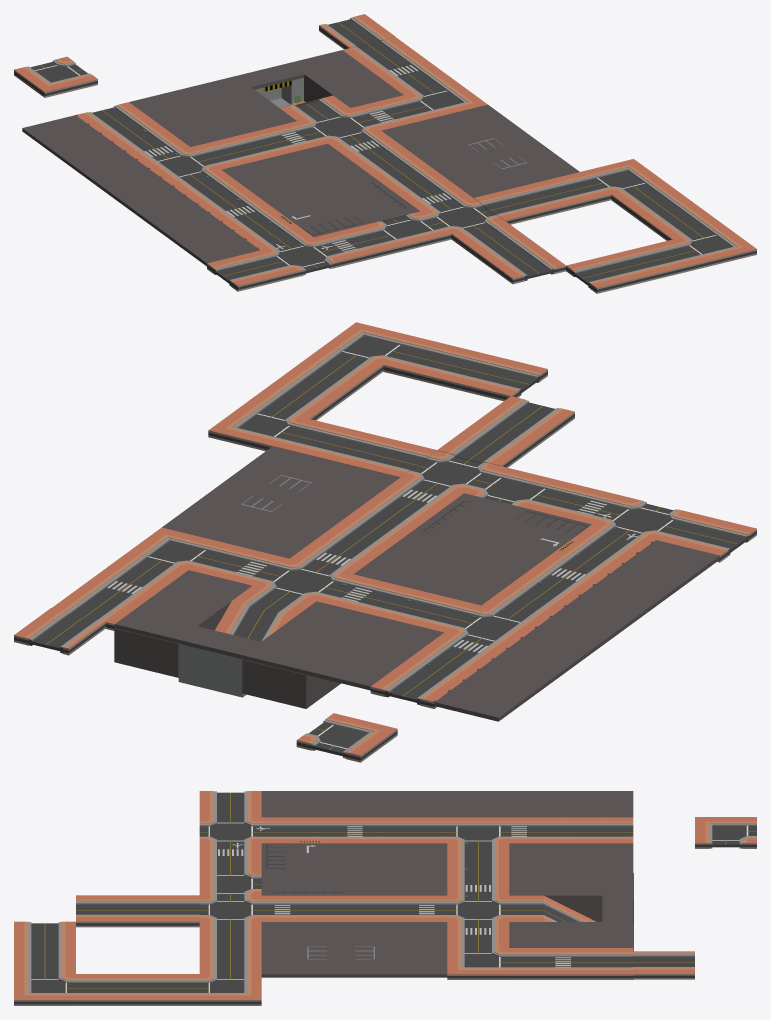
Rendered from road_37_mat.fbx.
3 views of the same model, one above another, from view 1: azimuth 30°, elevation 25°; view 2: azimuth 150°, elevation 25°; view 3: azimuth 270°, elevation 25° (orthographic). The views are drawn at different scales.
Visible parts, largest first — view 1: Combined_Mesh; view 2: Combined_Mesh; view 3: Combined_Mesh.
Part boxes in pixels (box(x1,y1,x2,y2)): Combined_Mesh: box(14, 14, 756, 293); Combined_Mesh: box(14, 322, 756, 762); Combined_Mesh: box(14, 791, 756, 1005).
Size of the model in its own units: 9888 by 793 by 14832.
